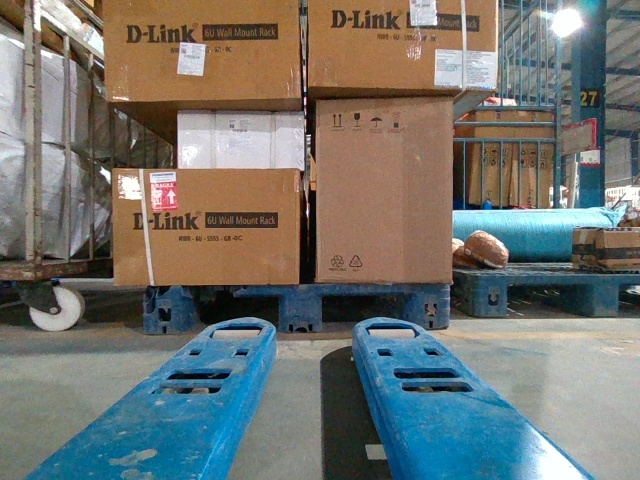block: (143, 285, 195, 337), (277, 284, 321, 333), (409, 285, 451, 332), (473, 272, 505, 317), (593, 274, 619, 316)
front: (148, 282, 448, 332)
hole pallet: (316, 286, 414, 333), (189, 288, 284, 336), (503, 282, 595, 318)
